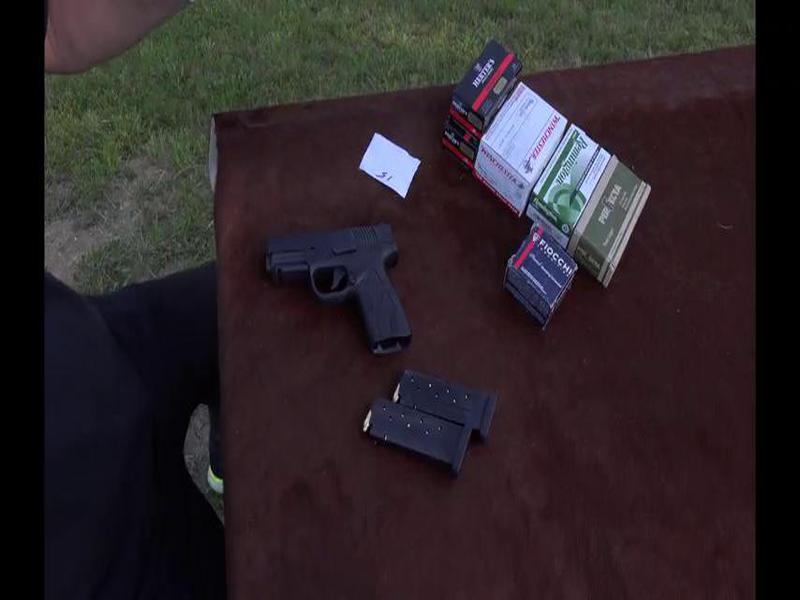Pistola: (261, 218, 414, 370)
